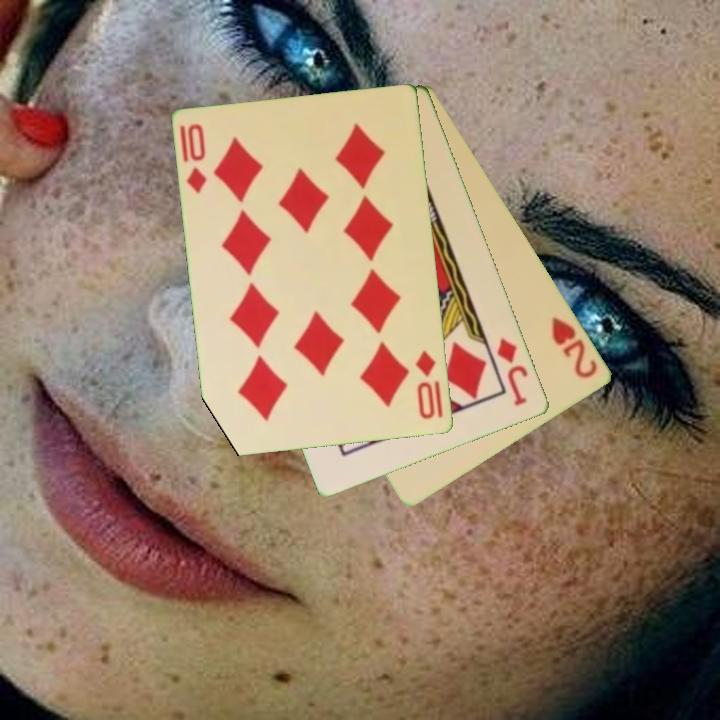10d: (176, 120, 211, 197), (412, 347, 439, 422)
2h: (548, 313, 601, 382)
Jd: (494, 335, 532, 409)
